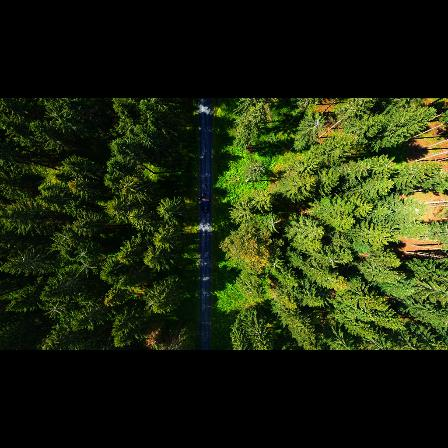Sick: (261, 212, 283, 237), (44, 298, 66, 322), (77, 256, 96, 278), (74, 245, 92, 262)
